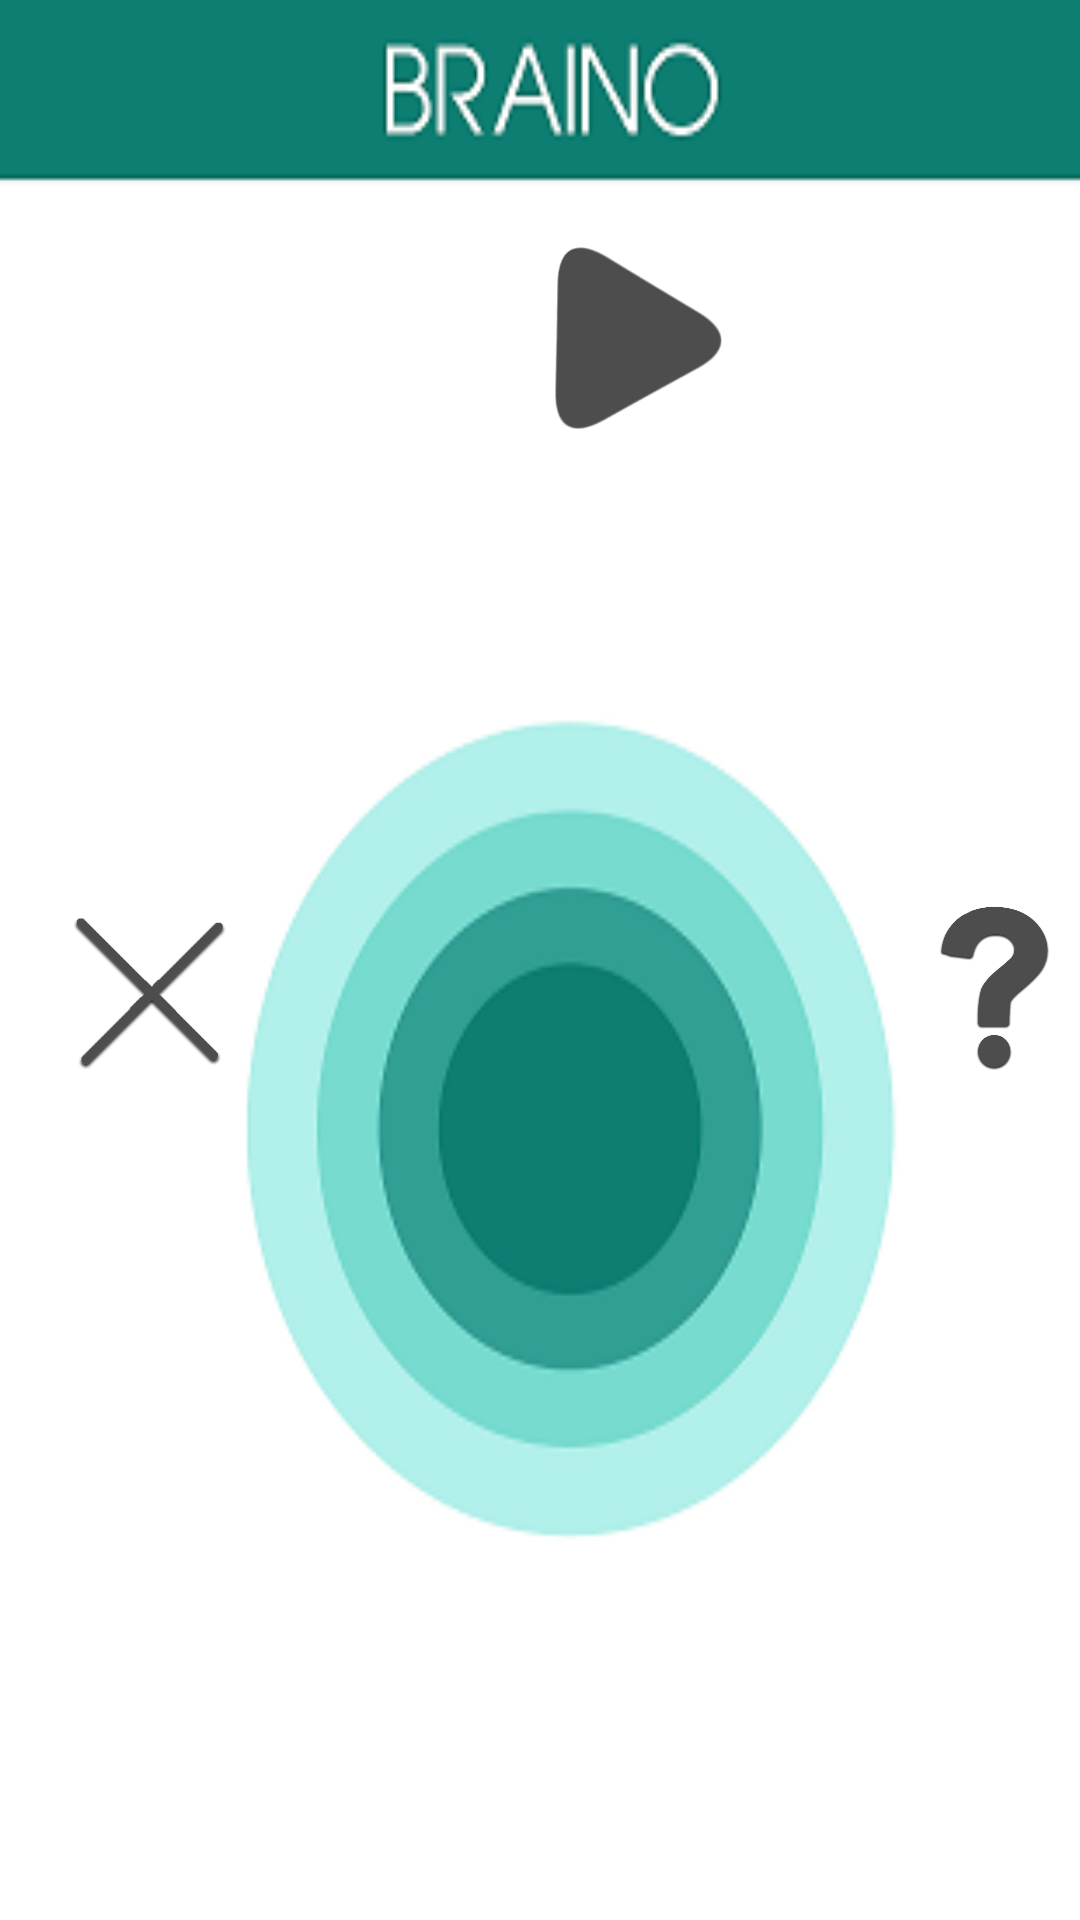

Icon click points for this 1080 x 1920 phone screenshot, format (x,y):
cross: (187,1021)
instructions: (994,988)
play: (638,338)
